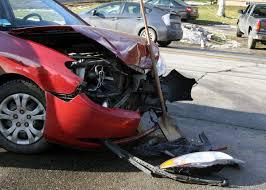bonnet-dent: (42, 18, 155, 65)
fender-dent: (18, 49, 85, 107)
